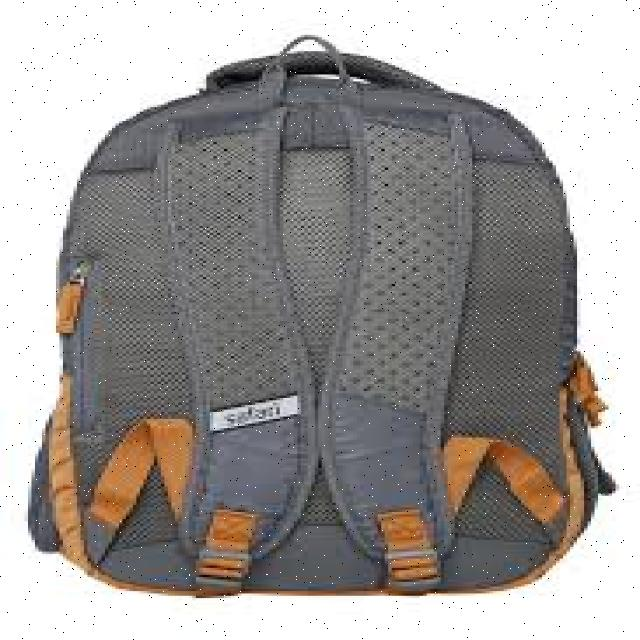backpack: (24, 32, 616, 596)
